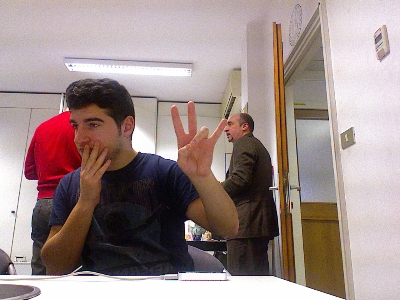观音: (169, 100, 227, 178)
